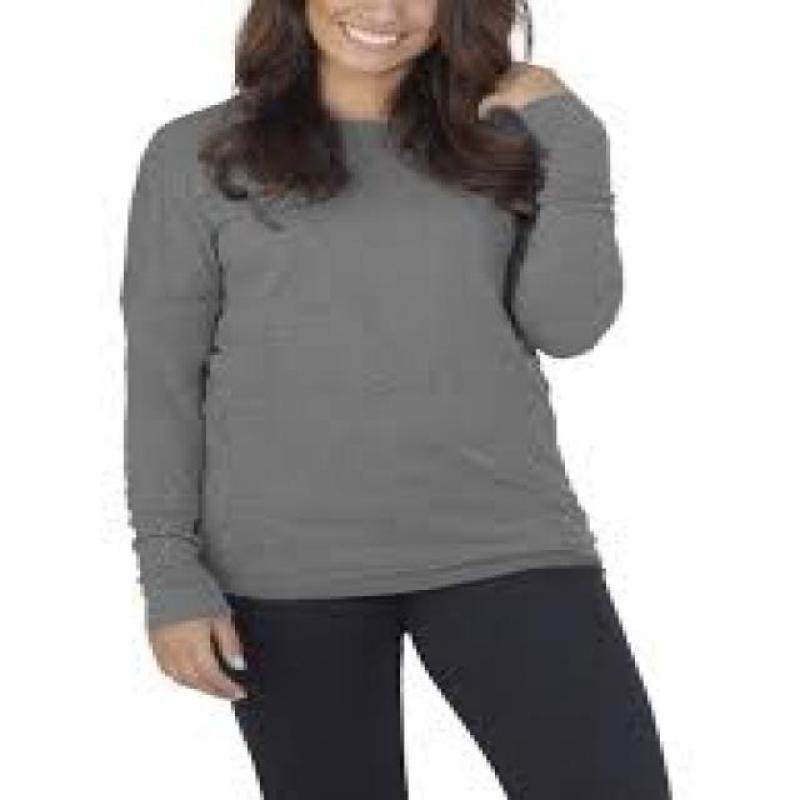long sleeve shirt: (118, 95, 626, 627)
trousers: (206, 563, 674, 800)
